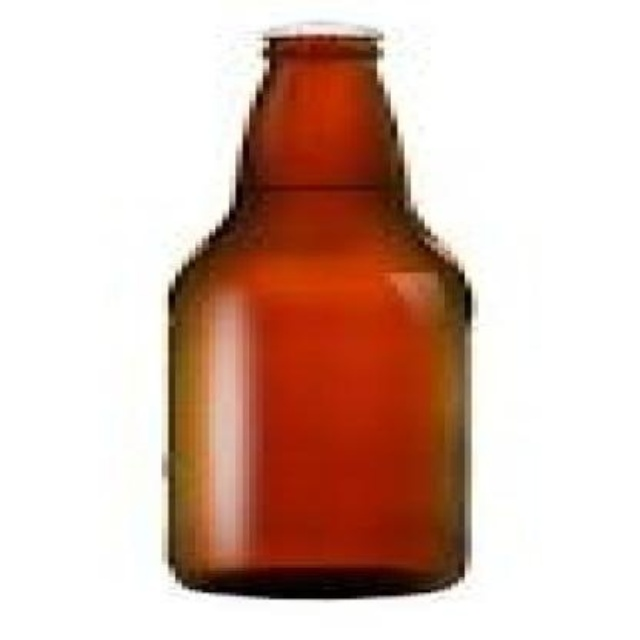trash: (169, 32, 469, 595)
